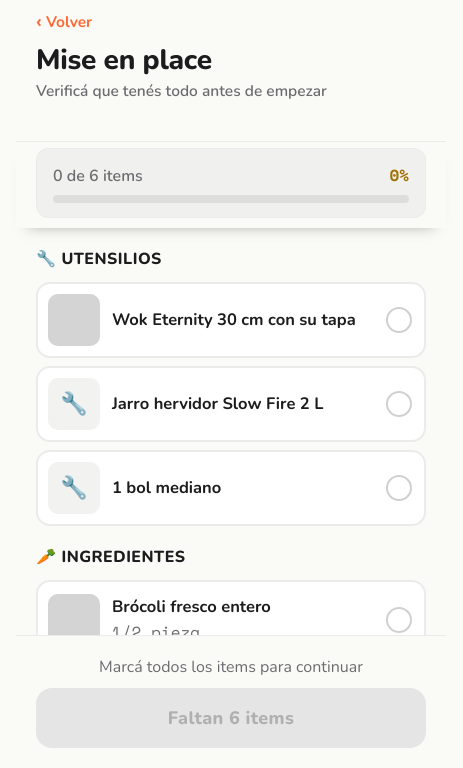
Test: MiseEnPlace › «Marcá todos» marca todo de un toque, y «Desmarcar todos» lo deshace
Step 1. Click the button "Marcá todos los items para continuar" → (231, 670), box [36,652,426,688]
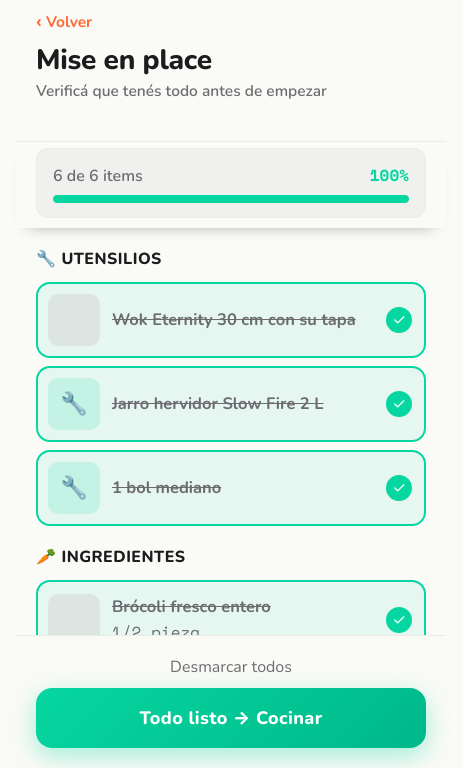
Result: the text "6 de 6 items" is shown at [53,165,143,187]
Result: the button "Todo listo → Cocinar" is enabled at [36,688,426,748]
Step 2. Click the button "Desmarcar todos" → (231, 670), box [36,652,426,688]
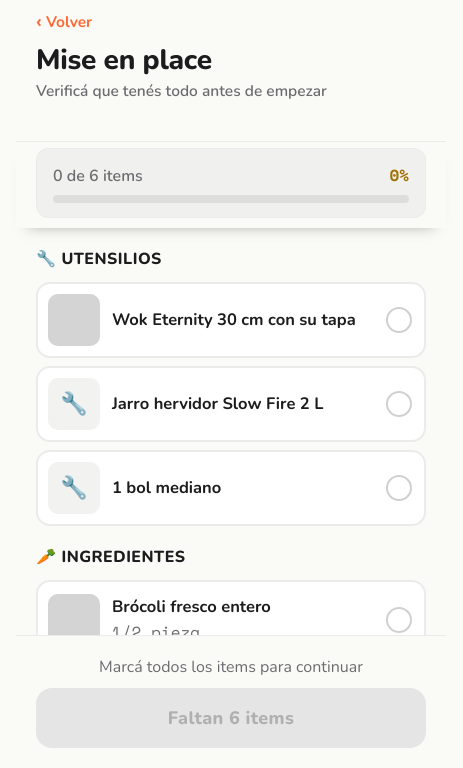
Result: the text "0 de 6 items" is shown at [53,165,143,187]
Result: the button "Faltan 6 items" is disabled at [36,688,426,748]
